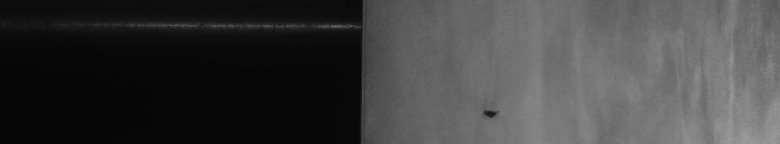fi: (480, 100, 501, 124)
